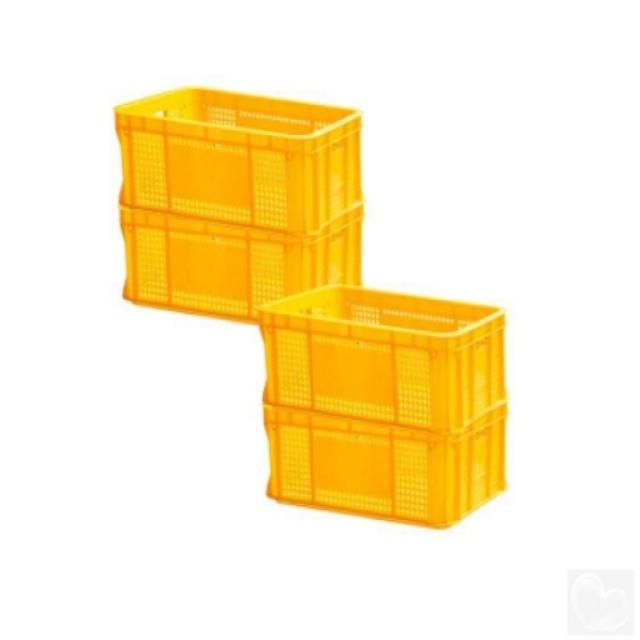basket: (245, 272, 521, 443), (101, 75, 375, 243), (265, 404, 506, 529), (120, 207, 363, 322)
